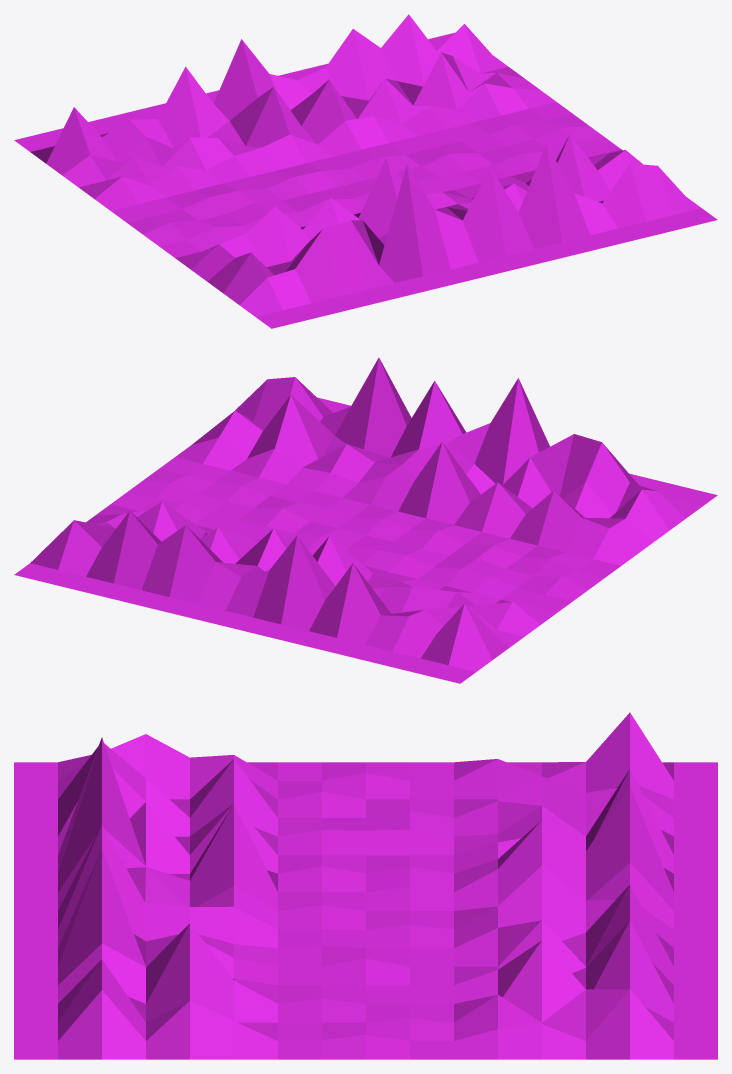
File: Terrain.fbx
3 views of the same model, one above another, from view 1: azimuth 30°, elevation 25°; view 2: azimuth 150°, elevation 25°; view 3: azimuth 270°, elevation 25° (orthographic). The views are drawn at different scales.
Parts seen in each view (by area): view 1: Plane; view 2: Plane; view 3: Plane.
Part boxes in pixels (x1,y1,x2,y2): Plane: [14, 14, 717, 328]; Plane: [14, 357, 717, 683]; Plane: [14, 712, 717, 1059].
Size of the model in its own units: 200 by 42.95 by 200.
